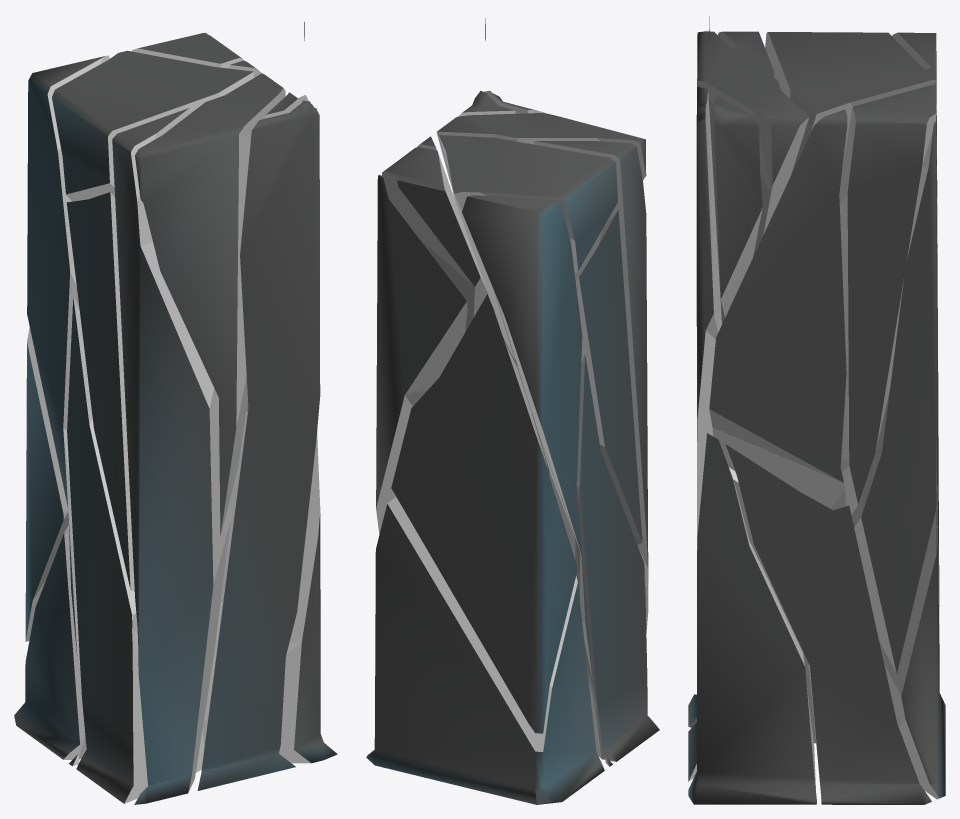
The model's file is Skyscrapers(1).glb.
3 views of the same model, side by side, from view 1: azimuth 30°, elevation 25°; view 2: azimuth 150°, elevation 25°; view 3: azimuth 270°, elevation 25° (orthographic). The views are drawn at different scales.
Visible parts, largest first — view 1: Root.006, Root.002, Root.011, Root, Root.008, Root.004, Root.013, Root.001, Root.007, Root.010, Root.005, Root.003; view 2: Root.010, Root.001, Root.008, Root, Root.014, Root.004, Root.013, Root.002, Root.005, Root.011, Root.016; view 3: Root.012, Root.007, Root.018, Root.005, Root.014, Root.004, Root.011, Root.001, Root.016, Root.006, Root.002, Root.008 (+2 smaller).
Part boxes in pixels (left/top/right/bottom): Root.006: left=197, top=100, right=320, bottom=790; Root.002: left=112, top=108, right=230, bottom=804; Root.011: left=135, top=73, right=285, bottom=536; Root: left=67, top=297, right=204, bottom=803; Root.008: left=27, top=55, right=109, bottom=660; Root.004: left=52, top=50, right=253, bottom=201; Root.013: left=66, top=192, right=134, bottom=591; Root.001: left=14, top=525, right=86, bottom=760; Root.007: left=279, top=432, right=337, bottom=763; Root.010: left=25, top=327, right=68, bottom=641; Root.005: left=131, top=33, right=243, bottom=68; Root.003: left=202, top=411, right=247, bottom=747; Root.010: left=391, top=294, right=577, bottom=733; Root.001: left=366, top=497, right=604, bottom=804; Root.008: left=462, top=195, right=592, bottom=678; Root: left=540, top=354, right=659, bottom=761; Root.014: left=376, top=174, right=467, bottom=534; Root.004: left=438, top=135, right=617, bottom=360; Root.013: left=503, top=210, right=642, bottom=544; Root.002: left=534, top=141, right=656, bottom=725; Root.005: left=382, top=147, right=488, bottom=331; Root.011: left=436, top=113, right=646, bottom=263; Root.016: left=453, top=91, right=515, bottom=209; Root.012: left=709, top=109, right=847, bottom=510; Root.007: left=688, top=433, right=816, bottom=804; Root.018: left=725, top=444, right=931, bottom=804; Root.005: left=839, top=85, right=936, bottom=514; Root.014: left=851, top=121, right=936, bottom=673; Root.004: left=765, top=32, right=936, bottom=174; Root.011: left=697, top=31, right=809, bottom=323; Root.001: left=879, top=491, right=945, bottom=799; Root.016: left=714, top=95, right=762, bottom=317; Root.006: left=688, top=87, right=721, bottom=781; Root.002: left=688, top=31, right=774, bottom=727; Root.008: left=892, top=32, right=937, bottom=253.
Size of the model in its own units: 7.26 by 24.21 by 7.26.
